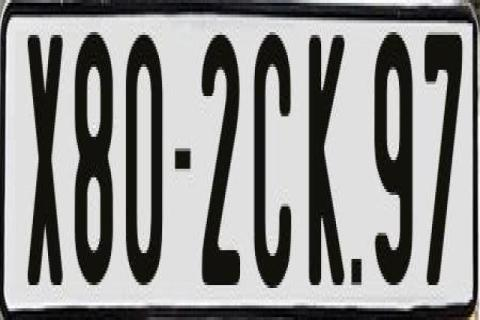0: (72, 23, 116, 285), (374, 24, 417, 288), (199, 32, 240, 300), (123, 26, 166, 276), (422, 27, 458, 286)
C: (252, 24, 293, 294)
K: (310, 35, 348, 288)
X: (25, 29, 61, 279)
